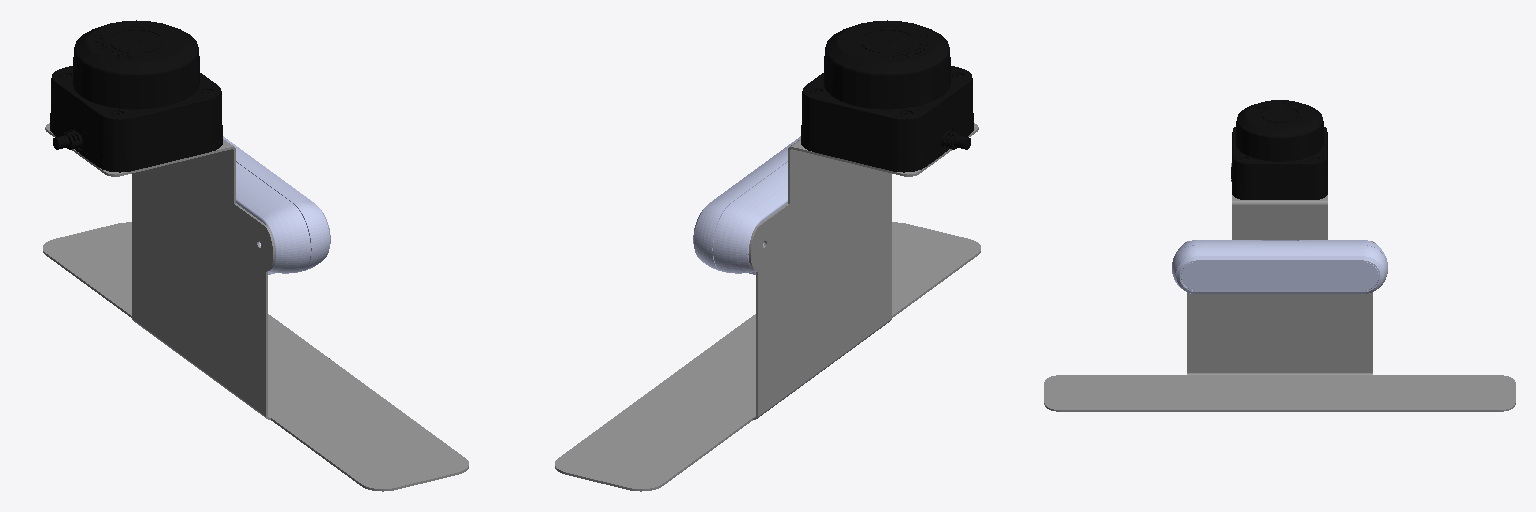
The robot description file, URDF, robot "bunker_mini":
<?xml version="1.0" encoding="utf-8"?>
<!-- AgileX Bunker Mini with a lidar + camera mount, for RViz and Gazebo Harmonic.
     base_link (mesh, mass, inertia) comes from bunker/bunker_mini in
     agilexrobotics/ugv_gazebo_sim (humble). That model is labelled Bunker
     Mini 2.0 and is a single rigid mesh: the tracks do not move. -->
<robot name="bunker_mini">
  <link name="base_link">
    <inertial>
      <origin xyz="0.00266149933171387 -6.51753880652126E-06 -0.0988540390646707" rpy="0 0 0" />
      <mass value="40.9538420525263" />
      <inertia
        ixx="0.428867306980697" ixy="-5.34500607982249E-06" ixz="-0.0281290917935353"
        iyy="1.22745608718324" iyz="-7.8205947442509E-07" izz="1.37929953930289" />
    </inertial>
    <visual>
      <origin xyz="0 0 0" rpy="0 0 0" />
      <geometry>
        <mesh filename="package://bunker_mini_description/meshes/base_link.STL" />
      </geometry>
      <material name="bunker_material">
        <color rgba="0.25 0.25 0.25 1" />
      </material>
    </visual>
    <!-- The mesh's bounding box in x and y (0.693 x 0.564), but only down to
         the belly between the tracks (z = -0.19, 8.4 cm above the track
         bottoms). The upstream box reached the ground; with the hidden track
         wheels below, that left 3 cm of clearance and the robot grounded on
         the maize field's bumps. -->
    <collision>
      <origin xyz="0.0131 0 -0.0665" rpy="0 0 0" />
      <geometry>
        <box size="0.693 0.564 0.247" />
      </geometry>
    </collision>
  </link>

  <!-- Invisible driven wheels standing in for the tracks: three per side
       along the track centre line (y = +-0.217), all driven like a track.
       The middle one reaches 5 mm lower and has full grip; the end ones have
       less grip (see the gazebo blocks), so the robot pivots about its middle
       when it turns on the spot, as a tracked robot does. -->
  <link name="left_front_track_link">
    <inertial>
      <origin xyz="0 0 0" rpy="0 0 0" />
      <mass value="1.0" />
      <inertia ixx="0.003" ixy="0" ixz="0" iyy="0.003" iyz="0" izz="0.005" />
    </inertial>
    <collision>
      <origin xyz="0 0 0" rpy="0 0 0" />
      <geometry>
        <cylinder radius="0.10" length="0.08" />
      </geometry>
    </collision>
  </link>
  <joint name="left_front_track_joint" type="continuous">
    <origin xyz="0.2 0.217 -0.174" rpy="-1.5708 0 0" />
    <parent link="base_link" />
    <child link="left_front_track_link" />
    <axis xyz="0 0 1" />
  </joint>
  <link name="left_mid_track_link">
    <inertial>
      <origin xyz="0 0 0" rpy="0 0 0" />
      <mass value="1.0" />
      <inertia ixx="0.003" ixy="0" ixz="0" iyy="0.003" iyz="0" izz="0.005" />
    </inertial>
    <collision>
      <origin xyz="0 0 0" rpy="0 0 0" />
      <geometry>
        <cylinder radius="0.10" length="0.08" />
      </geometry>
    </collision>
  </link>
  <joint name="left_mid_track_joint" type="continuous">
    <origin xyz="0.0 0.217 -0.179" rpy="-1.5708 0 0" />
    <parent link="base_link" />
    <child link="left_mid_track_link" />
    <axis xyz="0 0 1" />
  </joint>
  <link name="left_rear_track_link">
    <inertial>
      <origin xyz="0 0 0" rpy="0 0 0" />
      <mass value="1.0" />
      <inertia ixx="0.003" ixy="0" ixz="0" iyy="0.003" iyz="0" izz="0.005" />
    </inertial>
    <collision>
      <origin xyz="0 0 0" rpy="0 0 0" />
      <geometry>
        <cylinder radius="0.10" length="0.08" />
      </geometry>
    </collision>
  </link>
  <joint name="left_rear_track_joint" type="continuous">
    <origin xyz="-0.2 0.217 -0.174" rpy="-1.5708 0 0" />
    <parent link="base_link" />
    <child link="left_rear_track_link" />
    <axis xyz="0 0 1" />
  </joint>
  <link name="right_front_track_link">
    <inertial>
      <origin xyz="0 0 0" rpy="0 0 0" />
      <mass value="1.0" />
      <inertia ixx="0.003" ixy="0" ixz="0" iyy="0.003" iyz="0" izz="0.005" />
    </inertial>
    <collision>
      <origin xyz="0 0 0" rpy="0 0 0" />
      <geometry>
        <cylinder radius="0.10" length="0.08" />
      </geometry>
    </collision>
  </link>
  <joint name="right_front_track_joint" type="continuous">
    <origin xyz="0.2 -0.217 -0.174" rpy="-1.5708 0 0" />
    <parent link="base_link" />
    <child link="right_front_track_link" />
    <axis xyz="0 0 1" />
  </joint>
  <link name="right_mid_track_link">
    <inertial>
      <origin xyz="0 0 0" rpy="0 0 0" />
      <mass value="1.0" />
      <inertia ixx="0.003" ixy="0" ixz="0" iyy="0.003" iyz="0" izz="0.005" />
    </inertial>
    <collision>
      <origin xyz="0 0 0" rpy="0 0 0" />
      <geometry>
        <cylinder radius="0.10" length="0.08" />
      </geometry>
    </collision>
  </link>
  <joint name="right_mid_track_joint" type="continuous">
    <origin xyz="0.0 -0.217 -0.179" rpy="-1.5708 0 0" />
    <parent link="base_link" />
    <child link="right_mid_track_link" />
    <axis xyz="0 0 1" />
  </joint>
  <link name="right_rear_track_link">
    <inertial>
      <origin xyz="0 0 0" rpy="0 0 0" />
      <mass value="1.0" />
      <inertia ixx="0.003" ixy="0" ixz="0" iyy="0.003" iyz="0" izz="0.005" />
    </inertial>
    <collision>
      <origin xyz="0 0 0" rpy="0 0 0" />
      <geometry>
        <cylinder radius="0.10" length="0.08" />
      </geometry>
    </collision>
  </link>
  <joint name="right_rear_track_joint" type="continuous">
    <origin xyz="-0.2 -0.217 -0.174" rpy="-1.5708 0 0" />
    <parent link="base_link" />
    <child link="right_rear_track_link" />
    <axis xyz="0 0 1" />
  </joint>

  <!-- Lidar + camera mount (Onshape export, onshape-to-robot).
       In the mounting_plate frame the bracket is 0.27 m wide along X, the
       camera faces -Y and Z is up. sensor_mount_joint yaws it by 90 deg so the
       camera faces robot +X, centres it on y=0 and rests the plate on the flat
       deck between the tracks (z=0; the mesh's highest points, at z=0.057, are
       small bumps on the track covers). Change the joint x to slide it along
       the deck. -->
  <joint name="sensor_mount_joint" type="fixed">
    <origin xyz="0.145 0.103849 -0.0905" rpy="0 0 1.5708" />
    <parent link="base_link" />
    <child link="mounting_plate" />
  </joint>
  <link name="mounting_plate">
    <inertial>
      <origin xyz="-0.103827 0.0050822 0.16024" rpy="0 0 0" />
      <mass value="0.36749" />
      <inertia ixx="0.00134227" ixy="1.03252e-07" ixz="-1.2342e-08" iyy="0.00184516" iyz="-0.000424489" izz="0.00100517" />
    </inertial>
    <!-- Part rplidar_c1_1__body1 -->
    <visual>
      <origin xyz="-0.103849 0.0303506 0.200463" rpy="1.5708 0 0" />
      <geometry>
        <mesh filename="package://bunker_mini_description/meshes/rplidar_c1_1__body1.stl" />
      </geometry>
      <material name="rplidar_c1_1__body1_material">
        <color rgba="0.1 0.1 0.1 1" />
      </material>
    </visual>
    <collision>
      <origin xyz="-0.103849 0.0303506 0.2211" rpy="0 0 0" />
      <geometry>
        <cylinder radius="0.028" length="0.0413" />
      </geometry>
    </collision>
    <!-- Part realsense_camera -->
    <visual>
      <origin xyz="-0.254685 0.920052 0.165463" rpy="1.5708 0 0" />
      <geometry>
        <mesh filename="package://bunker_mini_description/meshes/realsense_camera.stl" />
      </geometry>
      <material name="realsense_camera_material">
        <color rgba="0.792157 0.819608 0.933333 1" />
      </material>
    </visual>
    <collision>
      <origin xyz="-0.1038 -0.0124 0.1655" rpy="0 0 0" />
      <geometry>
        <box size="0.124 0.0261 0.029" />
      </geometry>
    </collision>
    <!-- Part mounting_plate -->
    <visual>
      <origin xyz="-0.103849 -0.0233904 0.0904633" rpy="0 0 0" />
      <geometry>
        <mesh filename="package://bunker_mini_description/meshes/mounting_plate.stl" />
      </geometry>
      <material name="mounting_plate_material">
        <color rgba="0.627451 0.627451 0.627451 1" />
      </material>
    </visual>
    <collision>
      <origin xyz="-0.1038 0.0049 0.1455" rpy="0 0 0" />
      <geometry>
        <box size="0.27 0.1065 0.11" />
      </geometry>
    </collision>
  </link>

  <!-- Sensor frames (x forward, z up), estimated from the mesh bounding boxes:
       laser sits on the lidar spin axis about 31 mm above its base,
       camera_link at the centre of the camera front face. -->
  <link name="laser" />
  <joint name="laser_joint" type="fixed">
    <origin xyz="-0.103849 0.0303506 0.2315" rpy="0 0 -1.5708" />
    <parent link="mounting_plate" />
    <child link="laser" />
  </joint>
  <link name="camera_link" />
  <joint name="camera_joint" type="fixed">
    <origin xyz="-0.103849 -0.0255 0.1655" rpy="0 0 -1.5708" />
    <parent link="mounting_plate" />
    <child link="camera_link" />
  </joint>
  <!-- ROS optical convention: z forward, x right, y down -->
  <link name="camera_optical_frame" />
  <joint name="camera_optical_joint" type="fixed">
    <origin xyz="0 0 0" rpy="-1.5708 0 -1.5708" />
    <parent link="camera_link" />
    <child link="camera_optical_frame" />
  </joint>

  <gazebo reference="left_front_track_link">
    <mu1>0.15</mu1>
    <mu2>0.15</mu2>
  </gazebo>
  <gazebo reference="left_mid_track_link">
    <mu1>1.0</mu1>
    <mu2>1.0</mu2>
  </gazebo>
  <gazebo reference="left_rear_track_link">
    <mu1>0.15</mu1>
    <mu2>0.15</mu2>
  </gazebo>
  <gazebo reference="right_front_track_link">
    <mu1>0.15</mu1>
    <mu2>0.15</mu2>
  </gazebo>
  <gazebo reference="right_mid_track_link">
    <mu1>1.0</mu1>
    <mu2>1.0</mu2>
  </gazebo>
  <gazebo reference="right_rear_track_link">
    <mu1>0.15</mu1>
    <mu2>0.15</mu2>
  </gazebo>

  <!-- Simulated sensors for Gazebo Harmonic (gz sim). They need the
       gz-sim-sensors-system plugin in the world, see worlds/sensor_test.sdf. -->
  <!-- RPLidar C1: 360 deg, 10 Hz, 0.05-12 m, 0.72 deg angular resolution -->
  <gazebo reference="laser">
    <sensor name="rplidar_c1" type="gpu_lidar">
      <topic>scan</topic>
      <gz_frame_id>laser</gz_frame_id>
      <update_rate>10</update_rate>
      <always_on>true</always_on>
      <visualize>true</visualize>
      <lidar>
        <scan>
          <horizontal>
            <samples>500</samples>
            <resolution>1</resolution>
            <min_angle>-3.14159</min_angle>
            <max_angle>3.14159</max_angle>
          </horizontal>
        </scan>
        <range>
          <min>0.05</min>
          <max>12.0</max>
          <resolution>0.01</resolution>
        </range>
        <noise>
          <type>gaussian</type>
          <mean>0.0</mean>
          <stddev>0.01</stddev>
        </noise>
      </lidar>
    </sensor>
  </gazebo>

  <!-- IMU at base_link, 100 Hz. Gives the row-following MPC a slip-free
       heading and a tilt reading. -->
  <gazebo reference="base_link">
    <sensor name="imu" type="imu">
      <topic>imu</topic>
      <gz_frame_id>base_link</gz_frame_id>
      <update_rate>100</update_rate>
      <always_on>true</always_on>
    </sensor>
  </gazebo>

  <!-- RealSense-style RGB-D camera: 640x480 @ 30 Hz, 69 deg horizontal FOV -->
  <gazebo reference="camera_link">
    <sensor name="realsense" type="rgbd_camera">
      <topic>camera</topic>
      <!-- Gazebo stamps every topic of this sensor with this frame. That is
           right for the images and camera_info, but not for the camera/points
           cloud Gazebo also publishes (it is x-forward), so that one is not
           bridged to ROS. -->
      <gz_frame_id>camera_optical_frame</gz_frame_id>
      <update_rate>30</update_rate>
      <always_on>true</always_on>
      <camera>
        <horizontal_fov>1.2043</horizontal_fov>
        <image>
          <width>640</width>
          <height>480</height>
          <format>R8G8B8</format>
        </image>
        <clip>
          <near>0.1</near>
          <far>10.0</far>
        </clip>
      </camera>
    </sensor>
  </gazebo>

  <!-- Drive for Gazebo Harmonic: differential (skid-steer) drive on the hidden track wheels,
       commanded on cmd_vel. Replaces the Gazebo Classic planar_move plugin of
       the upstream file. Limits: Bunker Mini top speed 1.5 m/s. -->
  <gazebo>
    <plugin filename="gz-sim-diff-drive-system" name="gz::sim::systems::DiffDrive">
      <left_joint>left_front_track_joint</left_joint>
      <left_joint>left_mid_track_joint</left_joint>
      <left_joint>left_rear_track_joint</left_joint>
      <right_joint>right_front_track_joint</right_joint>
      <right_joint>right_mid_track_joint</right_joint>
      <right_joint>right_rear_track_joint</right_joint>
      <wheel_separation>0.434</wheel_separation>
      <wheel_radius>0.10</wheel_radius>
      <max_linear_velocity>1.5</max_linear_velocity>
      <min_linear_velocity>-1.5</min_linear_velocity>
      <max_angular_velocity>2.0</max_angular_velocity>
      <min_angular_velocity>-2.0</min_angular_velocity>
      <max_linear_acceleration>2.0</max_linear_acceleration>
      <min_linear_acceleration>-2.0</min_linear_acceleration>
      <topic>cmd_vel</topic>
      <odom_topic>odom</odom_topic>
      <tf_topic>tf</tf_topic>
      <frame_id>odom</frame_id>
      <child_frame_id>base_link</child_frame_id>
      <odom_publish_frequency>50</odom_publish_frequency>
    </plugin>
    <plugin filename="gz-sim-imu-system" name="gz::sim::systems::Imu" />
    <plugin filename="gz-sim-joint-state-publisher-system" name="gz::sim::systems::JointStatePublisher">
      <topic>joint_states</topic>
    </plugin>
  </gazebo>
</robot>

--- Facts derived from the render (not from the file) ---
3 views of the same robot in one strip: view 1: azimuth 30°, elevation 25°; view 2: azimuth 150°, elevation 25°; view 3: azimuth 270°, elevation 25° (orthographic).
Model bunker_mini with 11 links and 10 joints (6 continuous, 4 fixed), rooted at base_link, posed all joints at 0.
Visible links, largest first — view 1: mounting_plate; view 2: mounting_plate; view 3: mounting_plate.
Link boxes in pixels (x1,y1,x2,y2): mounting_plate: (43, 20, 468, 491); mounting_plate: (555, 20, 980, 491); mounting_plate: (1044, 100, 1515, 411).
Bounding box of the posed robot: 0.1157 × 0.27 × 0.1513 m (x, y, z).
3 mesh visuals loaded from 4 distinct referenced files (3 binary STL); not drawn: 1 (reference not matched to a file when rendering).
